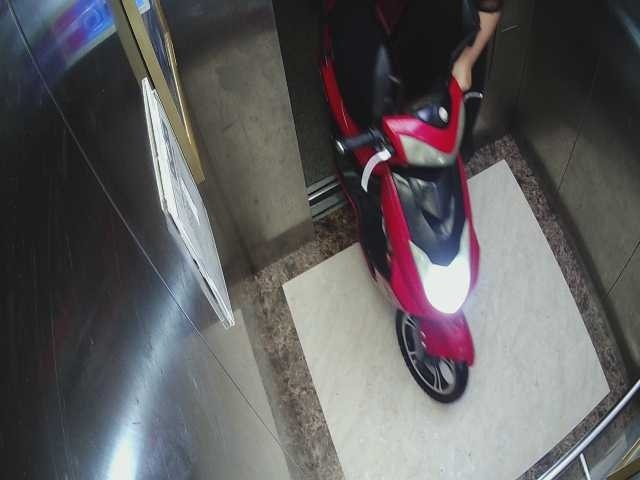emotor: (310, 12, 517, 402)
